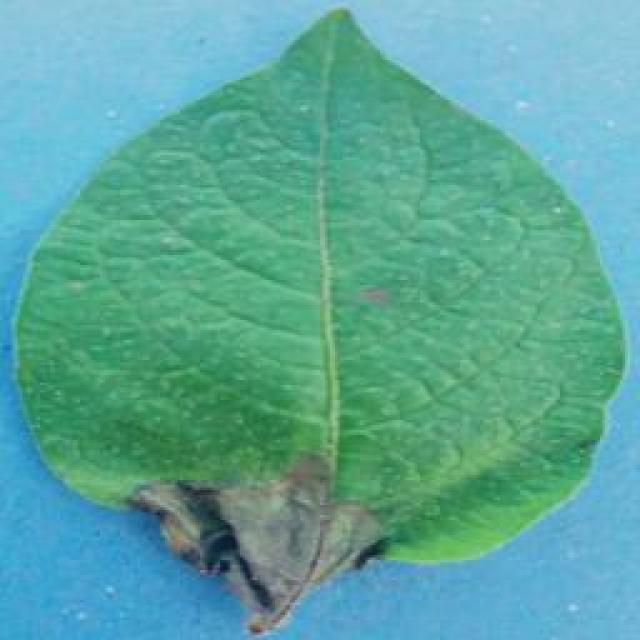Potato_Late_Blight: (21, 12, 632, 621)
